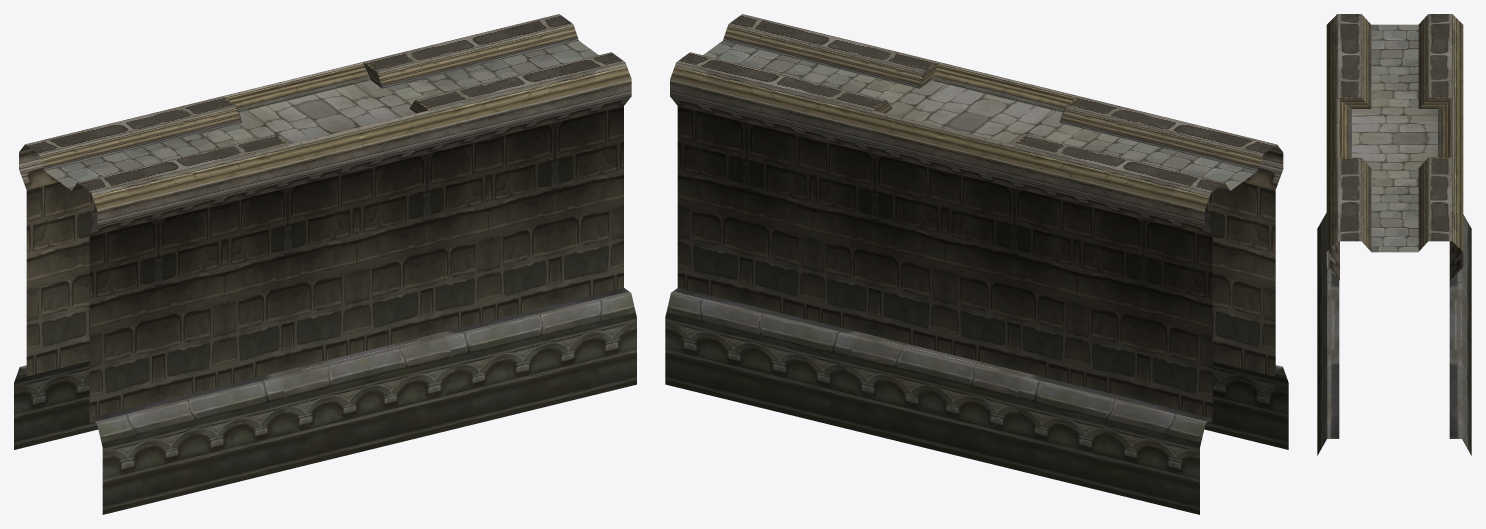
File: new_sh_bridgeout_wall.FBX
3 renders of one model, left to right at view 1: azimuth 30°, elevation 25°; view 2: azimuth 150°, elevation 25°; view 3: azimuth 270°, elevation 25°, orthographic. The views are drawn at different scales.
Parts seen in each view (by area): view 1: new_sh_bridgeout_wall; view 2: new_sh_bridgeout_wall; view 3: new_sh_bridgeout_wall.
Part boxes in pixels (x1,y1,x2,y2): new_sh_bridgeout_wall: (14,14,636,514); new_sh_bridgeout_wall: (665,14,1288,514); new_sh_bridgeout_wall: (1317,14,1471,455).
Bounding box in the file's own units: 1287 × 722 × 370.
Materials: 1 (1 with a texture image).
